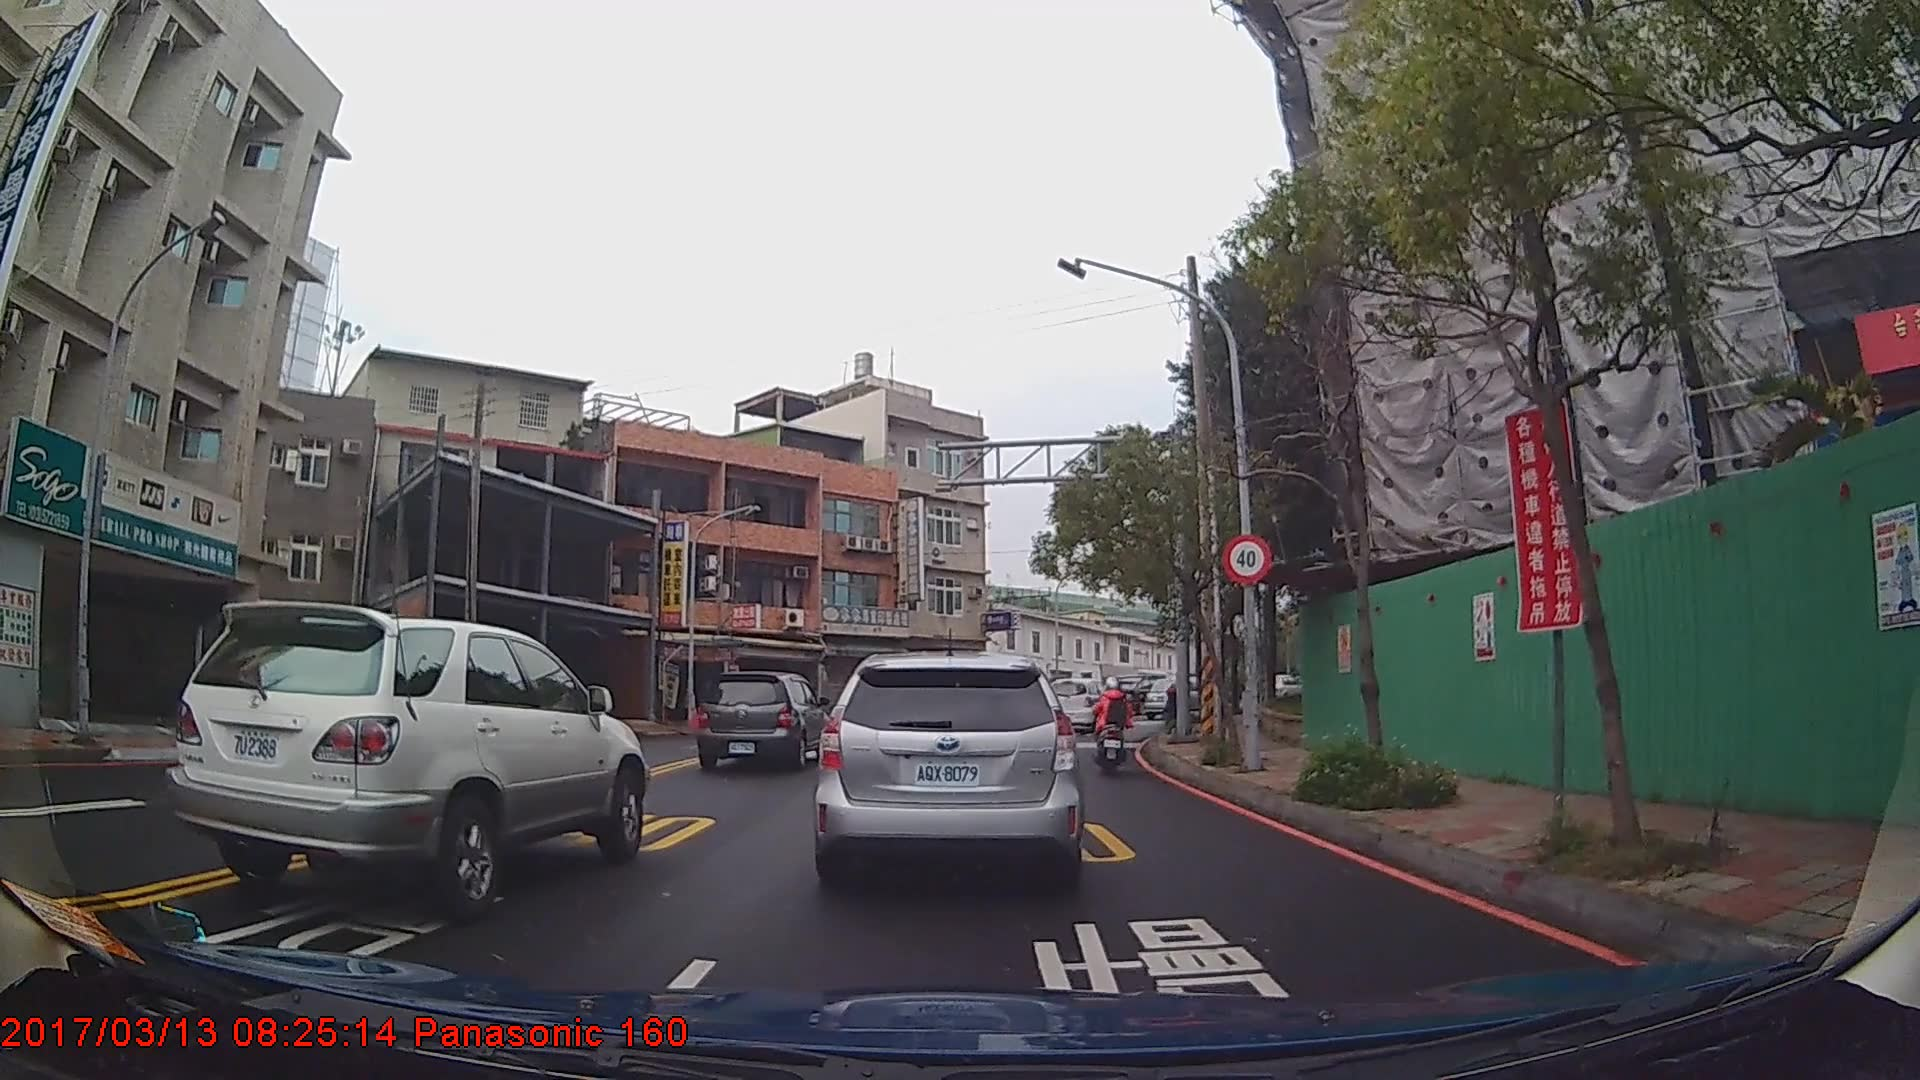rider: (1094, 675, 1137, 766), (1162, 676, 1193, 733)
vehicle: (167, 597, 649, 914), (809, 651, 1084, 896), (692, 667, 827, 766), (1045, 673, 1116, 730)
